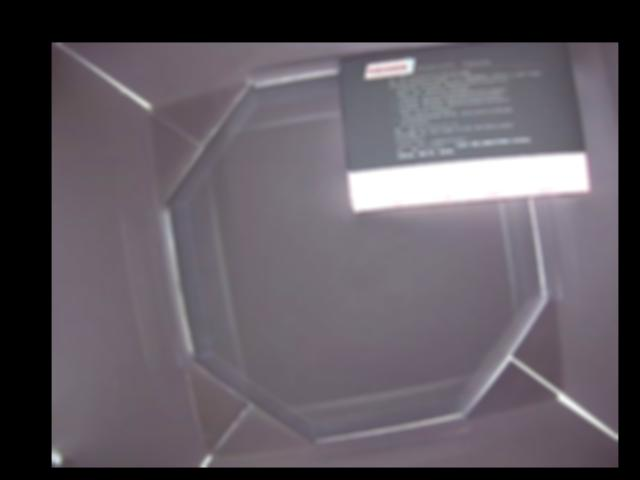Medicine: (336, 43, 590, 214)
